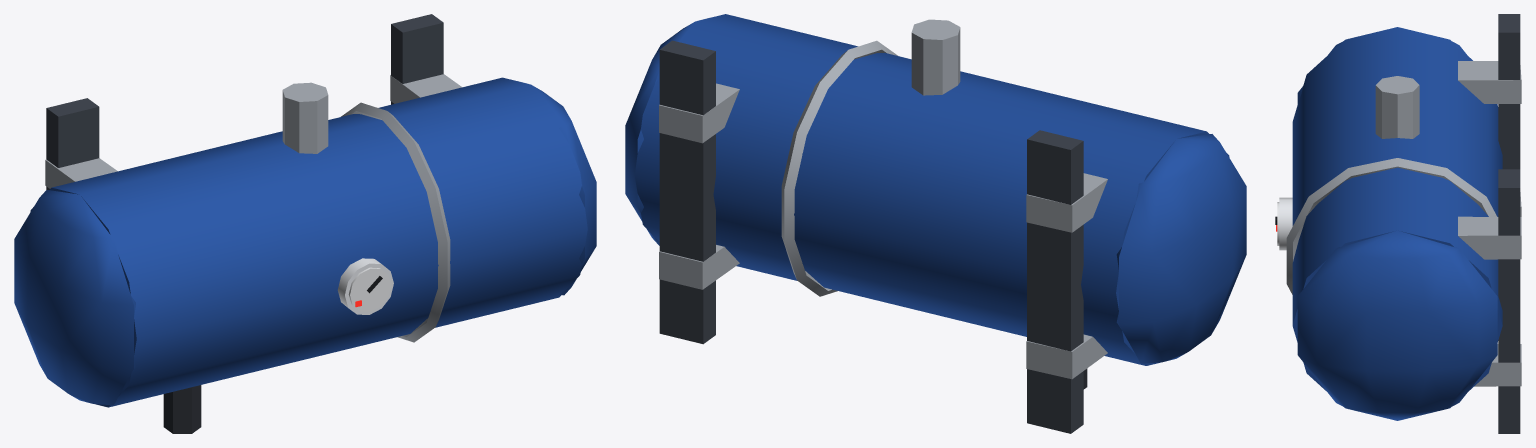
Rendered from tank_expansion_tank.glb.
3 views of the same model, side by side, from view 1: azimuth 30°, elevation 25°; view 2: azimuth 150°, elevation 25°; view 3: azimuth 270°, elevation 25° (orthographic). The views are drawn at different scales.
Parts seen in each view (by area): view 1: tank_expansion_tank; view 2: tank_expansion_tank; view 3: tank_expansion_tank.
Boxes of the visible parts, x1=… form: tank_expansion_tank: x1=14, y1=14, x2=596, y2=433; tank_expansion_tank: x1=625, y1=14, x2=1246, y2=433; tank_expansion_tank: x1=1275, y1=14, x2=1521, y2=433.
Bounding box in the file's own units: 1.27 × 0.71 × 0.562.
